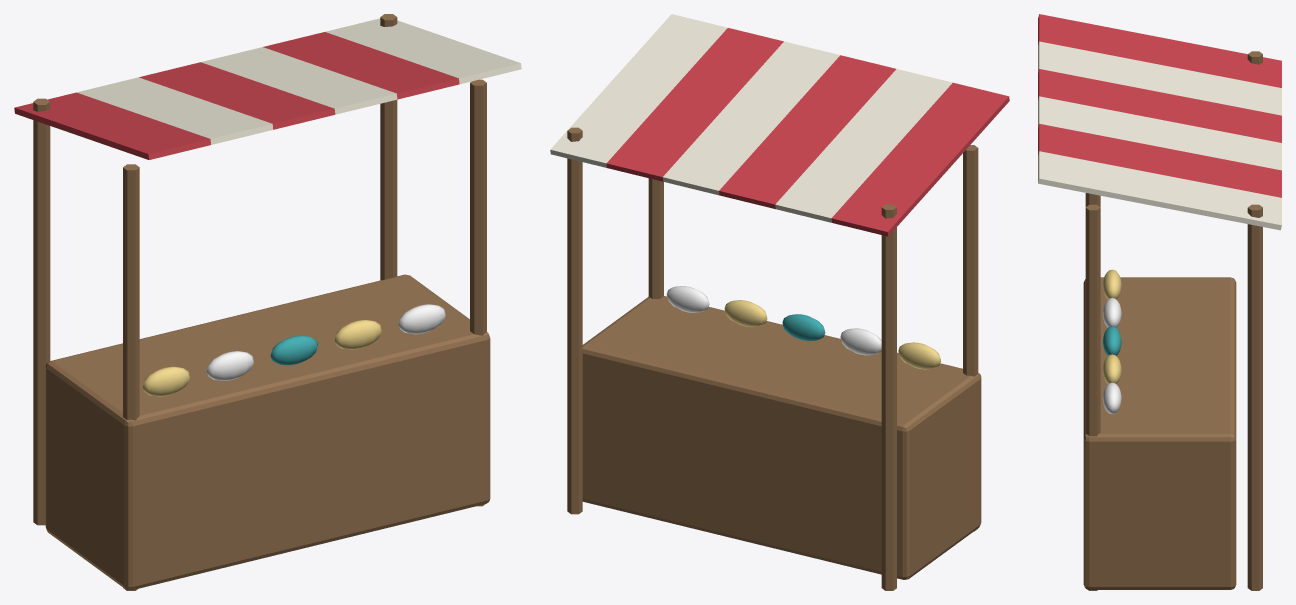
The model's file is Stall.glb.
3 views of the same model, side by side, from view 1: azimuth 30°, elevation 25°; view 2: azimuth 150°, elevation 25°; view 3: azimuth 270°, elevation 25° (orthographic). The views are drawn at different scales.
Parts seen in each view (by area): view 1: Stall; view 2: Stall; view 3: Stall.
Boxes of the visible parts, bbox=[...] form: Stall: bbox=[14, 14, 521, 590]; Stall: bbox=[550, 14, 1009, 590]; Stall: bbox=[1038, 14, 1281, 590].
Size of the model in its own units: 2.04 by 2.4 by 1.28.
